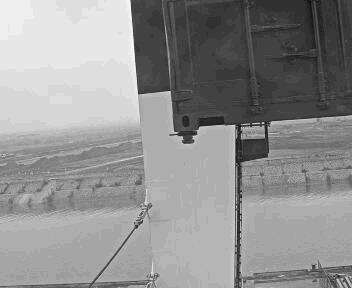twist_lock_1: (113, 197, 217, 262)
